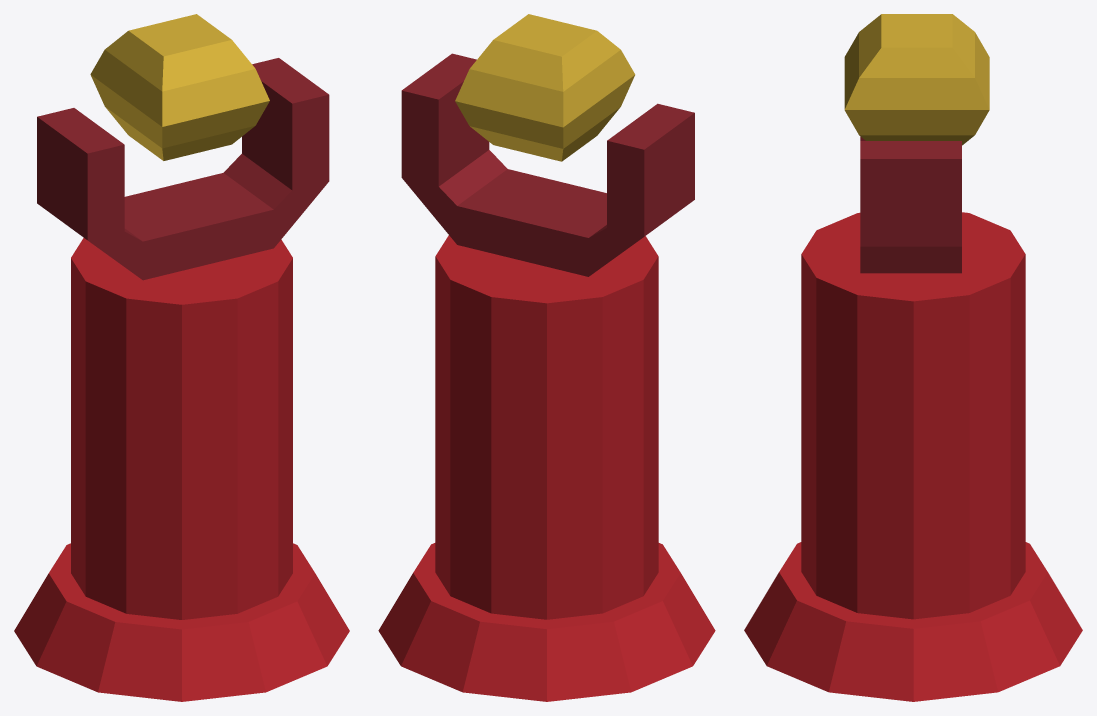
File: generator.fbx
3 renders of one model, left to right at view 1: azimuth 30°, elevation 25°; view 2: azimuth 150°, elevation 25°; view 3: azimuth 270°, elevation 25°, orthographic.
Parts seen in each view (by area): view 1: Cylinder, Cylinder.002; view 2: Cylinder, Cylinder.002; view 3: Cylinder, Cylinder.002.
Part boxes in pixels (x1,y1,x2,y2): Cylinder: (14,238,349,701); Cylinder.002: (37,14,329,280); Cylinder: (378,235,715,701); Cylinder.002: (401,14,694,276); Cylinder: (744,212,1082,701); Cylinder.002: (844,14,989,273).
Size of the model in its own units: 6.67 by 6.67 by 13.02.
